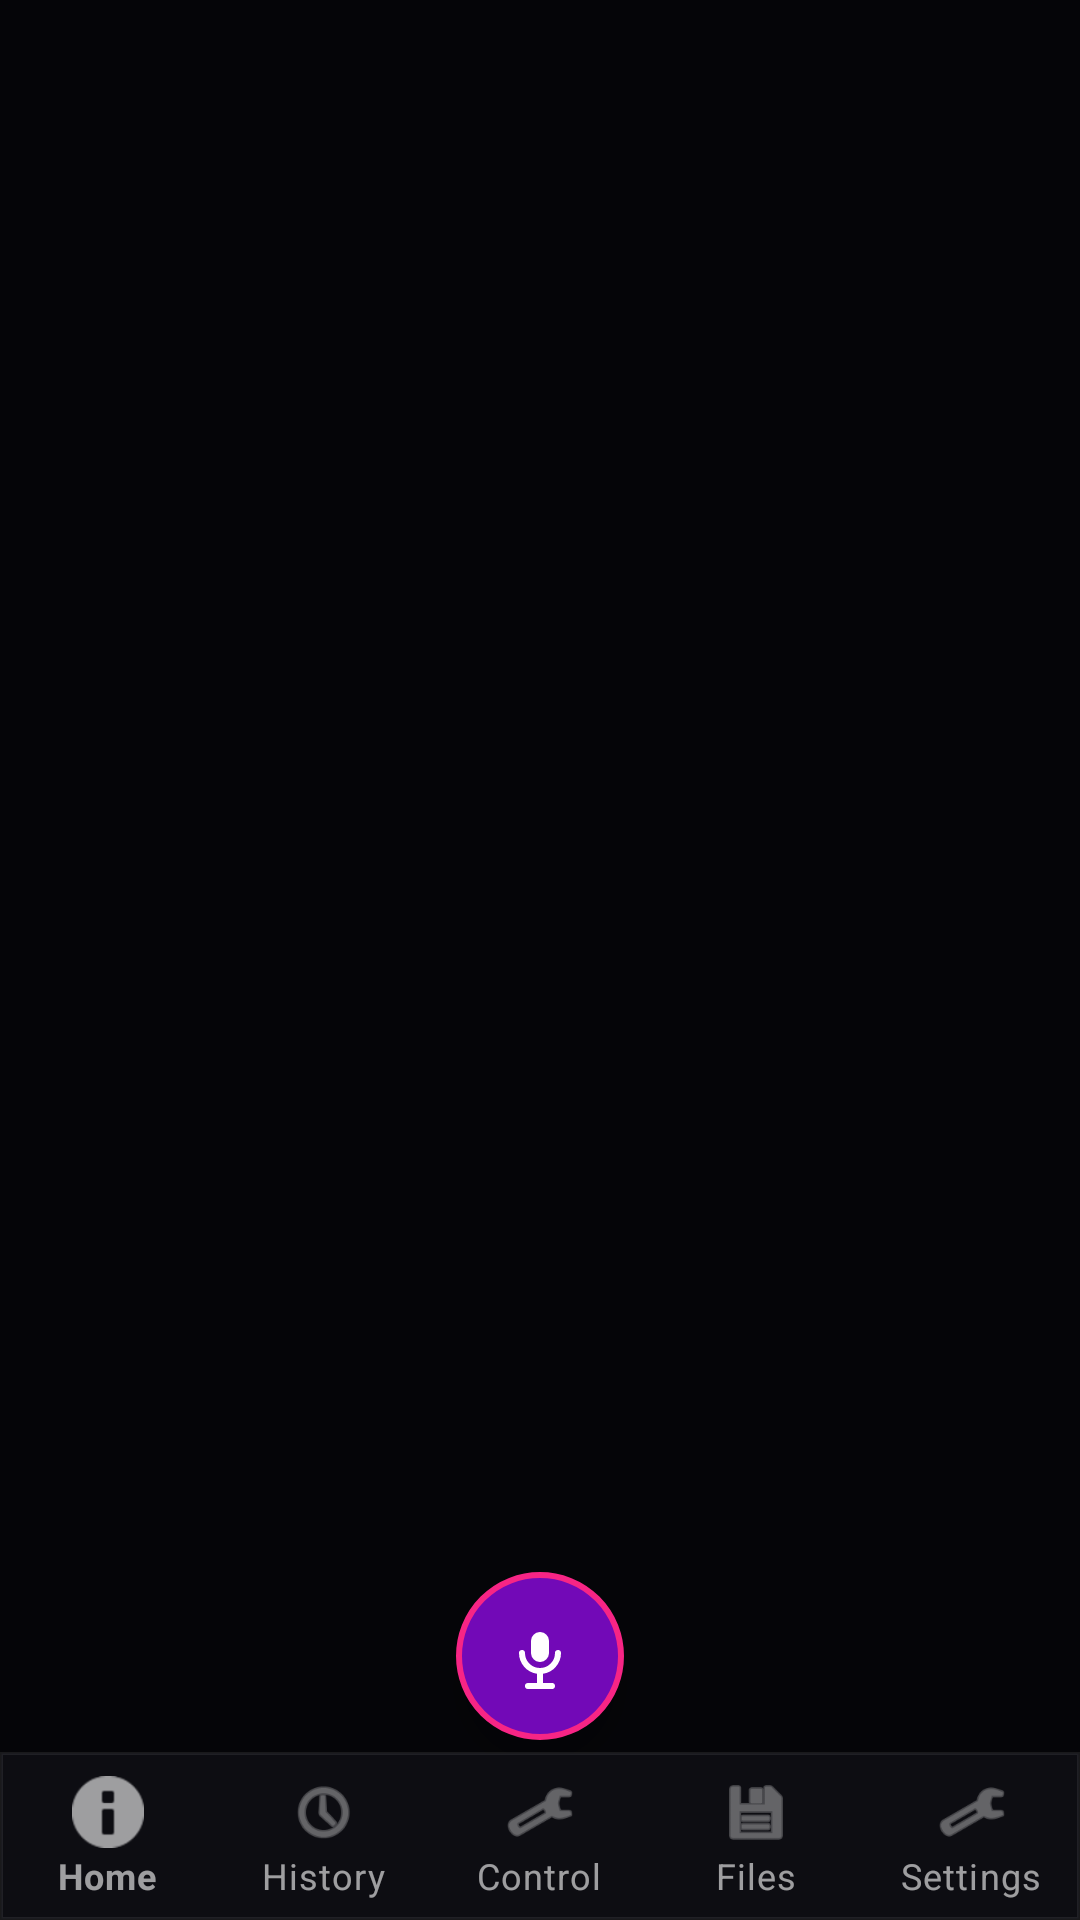

Where to tap for icons on this 1080x1920 app screen, as point (x, y):
Microphone button to start listening: point (540, 1656)
